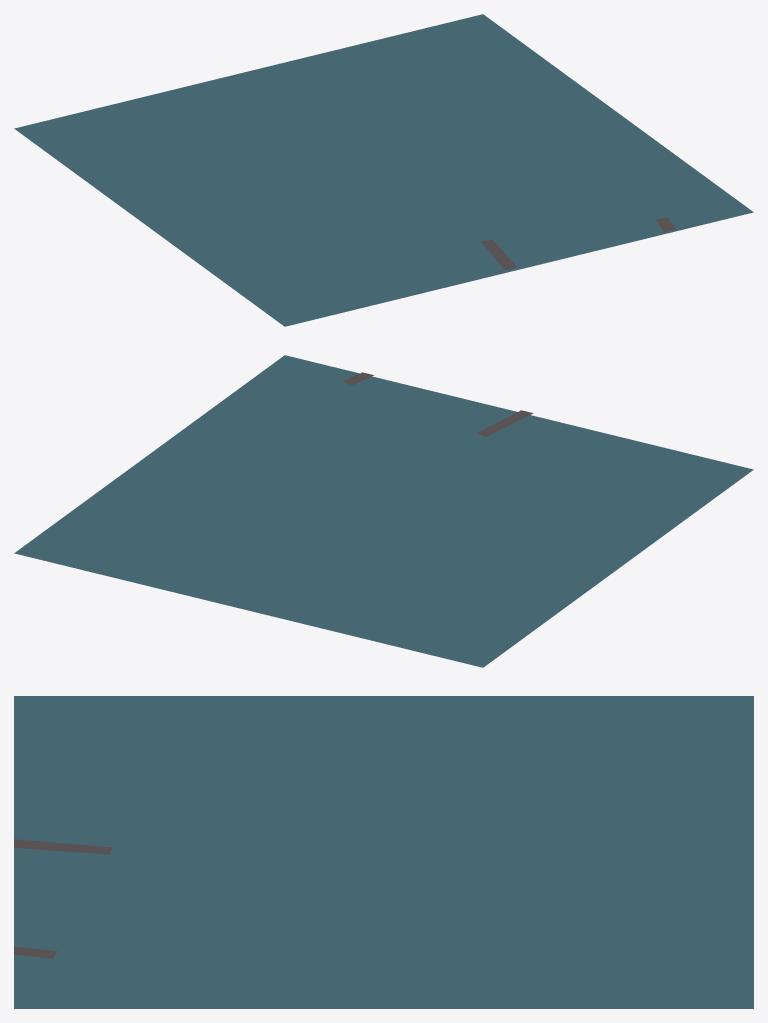
The picture shows the model from 3 angles, top to bottom: view 1: azimuth 30°, elevation 25°; view 2: azimuth 150°, elevation 25°; view 3: azimuth 270°, elevation 25°; orthographic projection. The views are drawn at different scales.
Visible parts, largest first — view 1: c_p05_m06; view 2: c_p05_m06; view 3: c_p05_m06.
Boxes of the visible parts, x1,y1,x2,y2 form: c_p05_m06: [14, 14, 753, 326]; c_p05_m06: [14, 355, 753, 667]; c_p05_m06: [14, 696, 753, 1008].
Bounding box in the file's own units: 128 × 0.6937 × 128.
